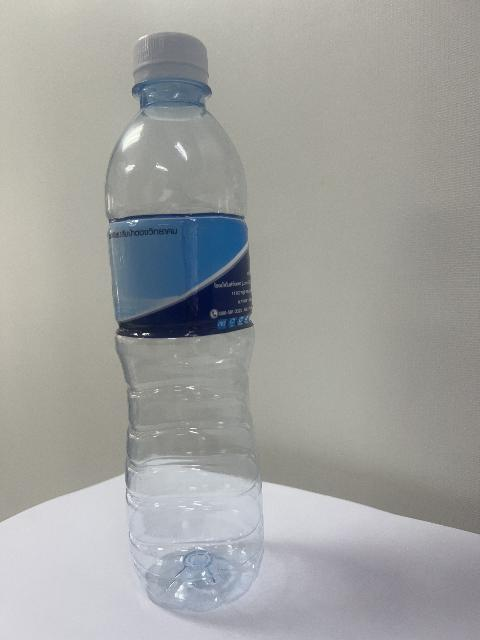bottle: (106, 32, 263, 611)
